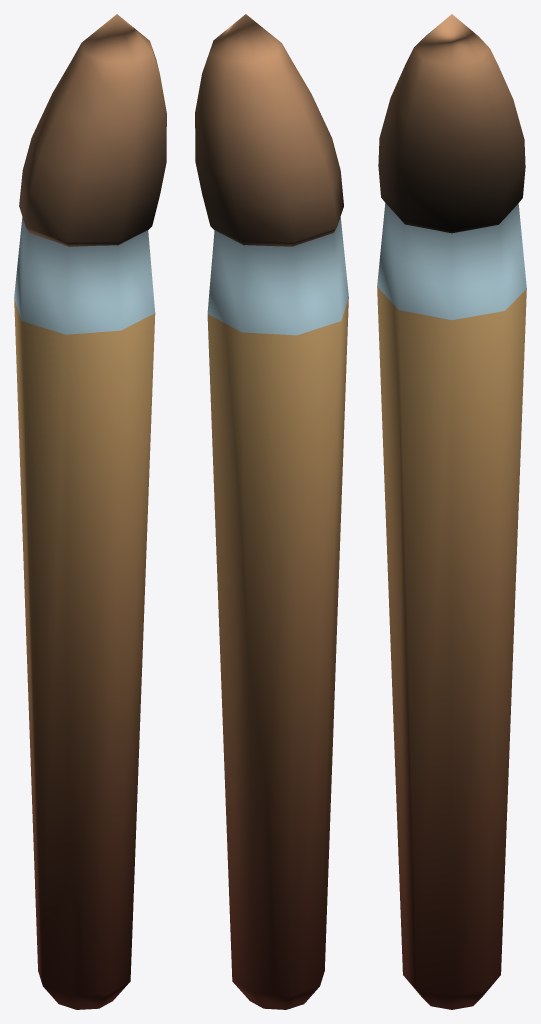
File: brush_002.glb
3 views of the same model, side by side, from view 1: azimuth 30°, elevation 25°; view 2: azimuth 150°, elevation 25°; view 3: azimuth 270°, elevation 25° (orthographic). The views are drawn at different scales.
Parts seen in each view (by area): view 1: brush.002; view 2: brush.002; view 3: brush.002.
Part boxes in pixels (box(x1,y1,x2,y2)): brush.002: box(14, 14, 166, 1009); brush.002: box(195, 14, 348, 1009); brush.002: box(377, 14, 526, 1009).
Size of the model in its own units: 0.0671 by 0.4461 by 0.0606.
1 material, 1 textured.
